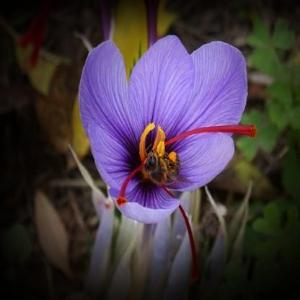Saffron: (81, 38, 245, 224)
